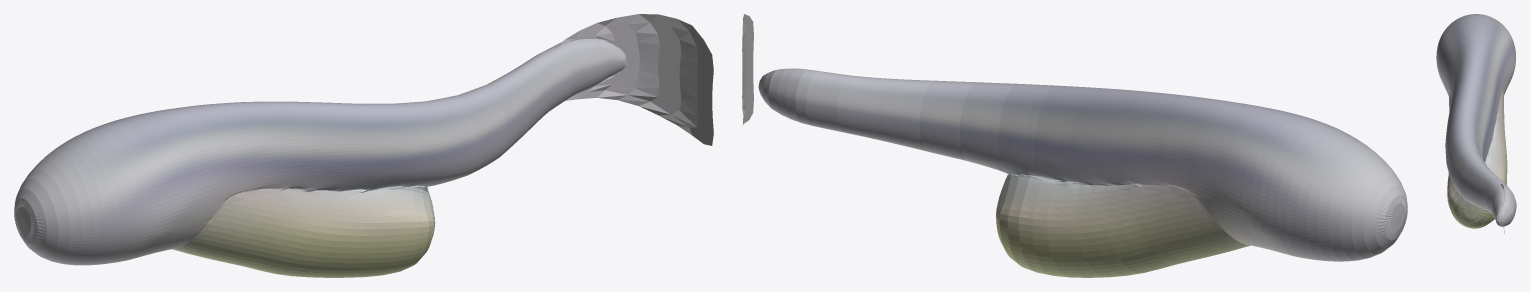
The model's file is chigyo_body.gltf.
3 views of the same model, side by side, from view 1: azimuth 30°, elevation 25°; view 2: azimuth 150°, elevation 25°; view 3: azimuth 270°, elevation 25° (orthographic). The views are drawn at different scales.
Size of the model in its own units: 1 by 0.3018 by 0.1712.
